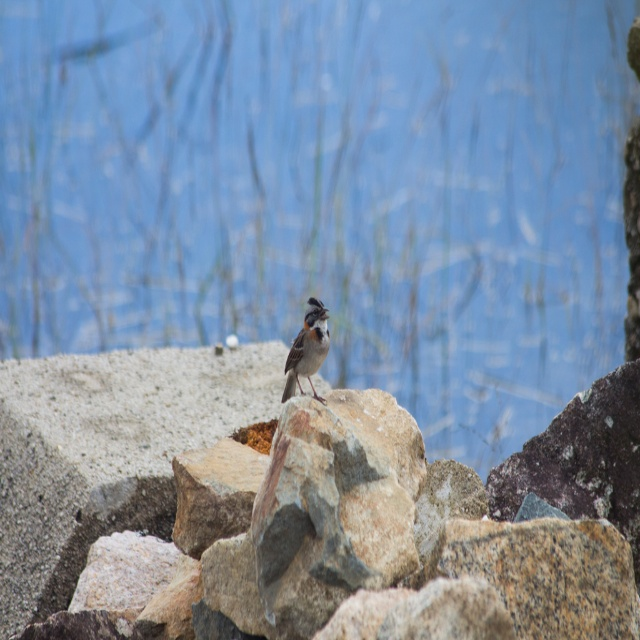Sparrow: (281, 294, 333, 401)
